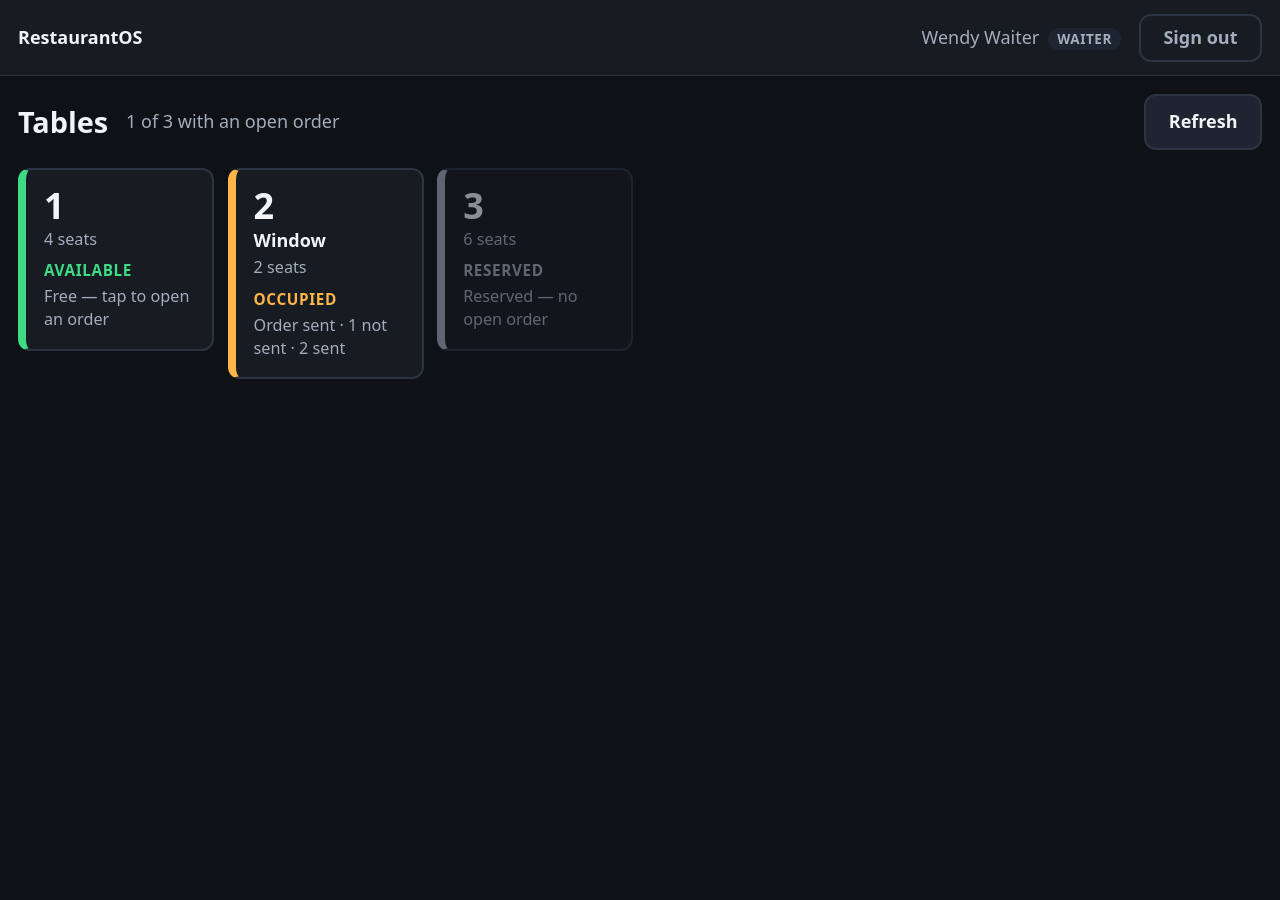
Tables › opens an order for a free table with the number of guests
Step 1. Click the button with aria-label "Table 1:" → click(116, 259), box [18,168,214,350]
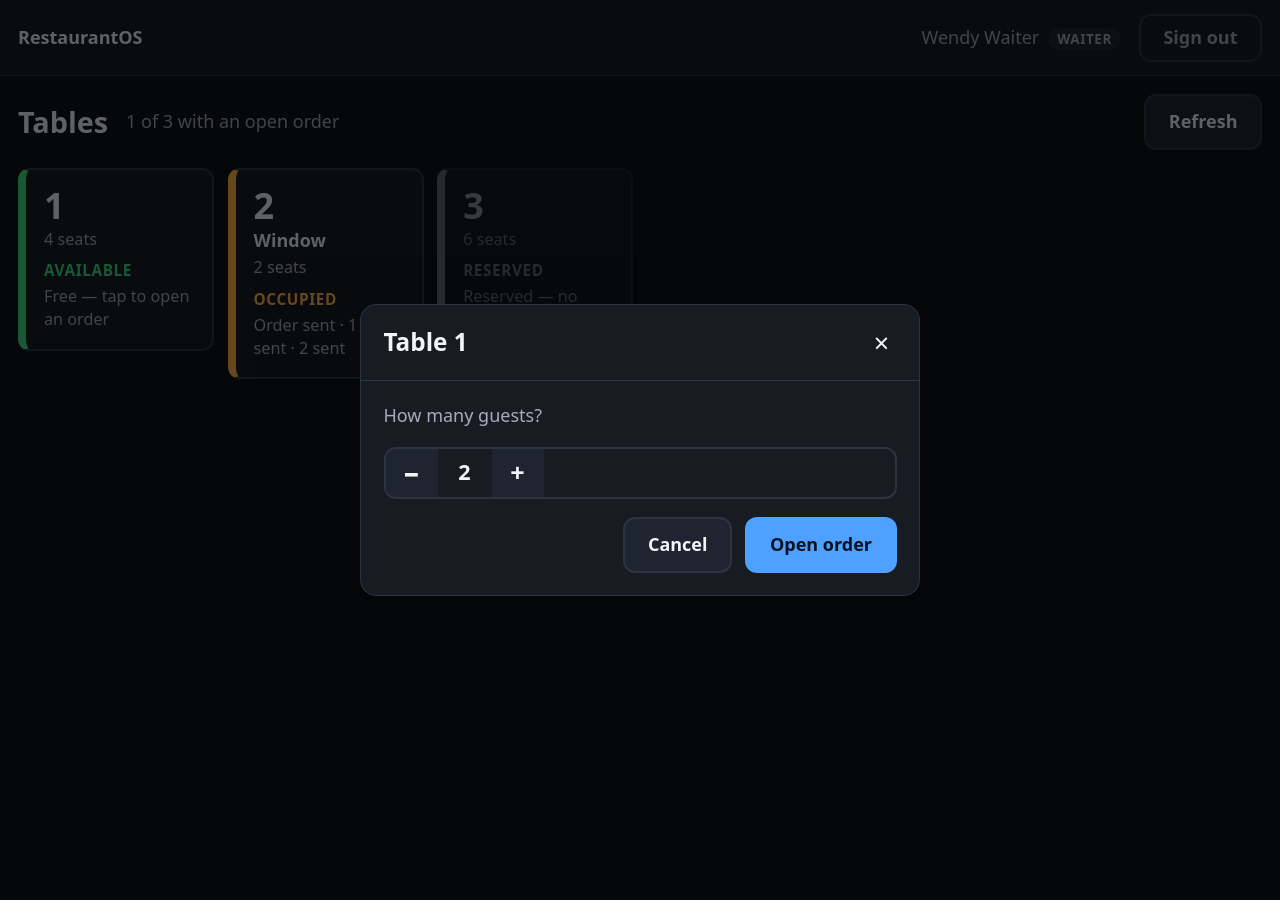
Step 2. Click the button named "More guests" → click(518, 473), box [492,449,544,497]
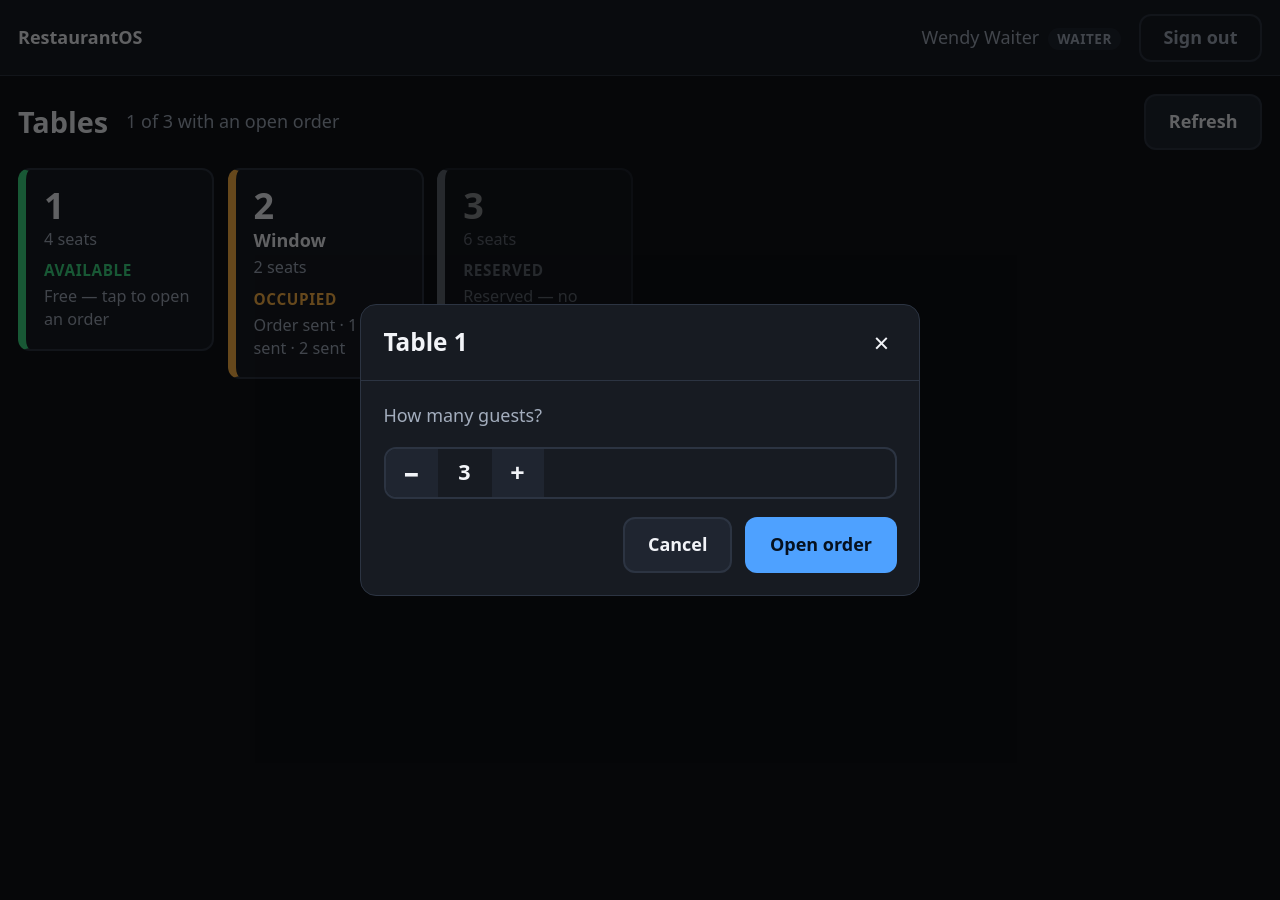
Step 3. Click the button "Open order" → click(821, 545), box [746,517,896,573]
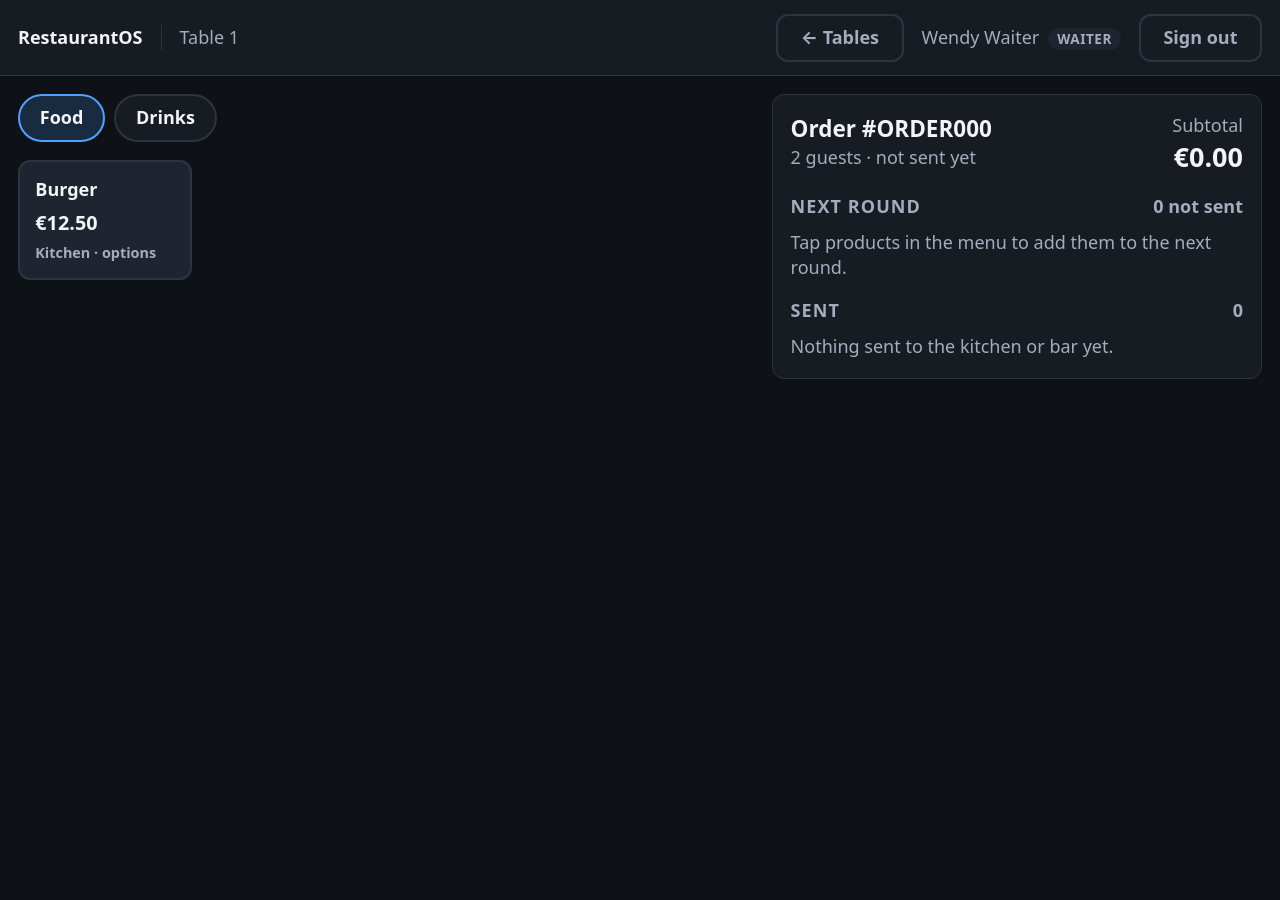
Expected: the text "Table 1" is shown, [160,25,239,50]
Expected: the text "Tap products in the menu to add them to the next round." is shown, [791,230,1243,280]
